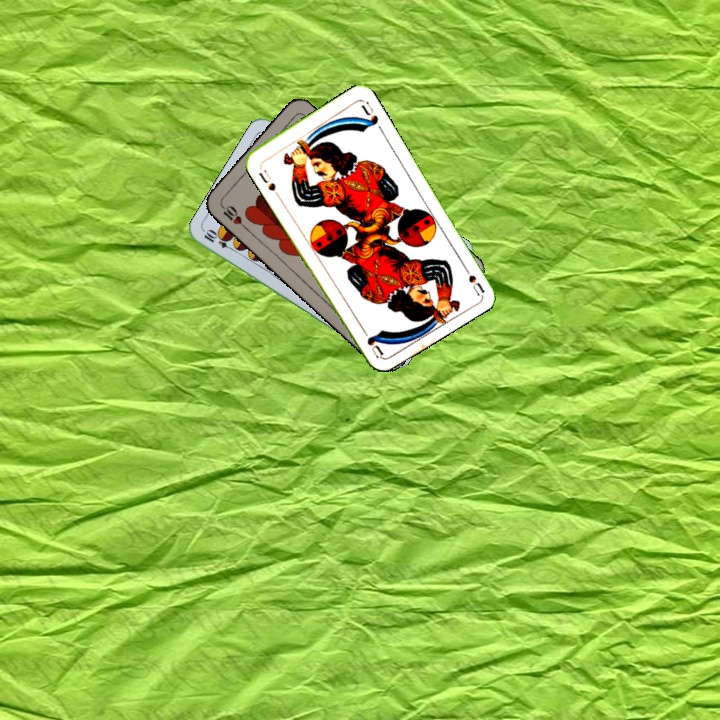E10: (200, 227, 238, 254)
H10: (217, 200, 249, 232)
SU: (458, 258, 486, 297), (255, 161, 281, 199)
